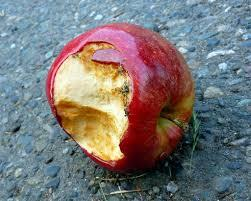Apple: (45, 21, 195, 175)
